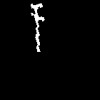double_crochet: (31, 4, 43, 51)
